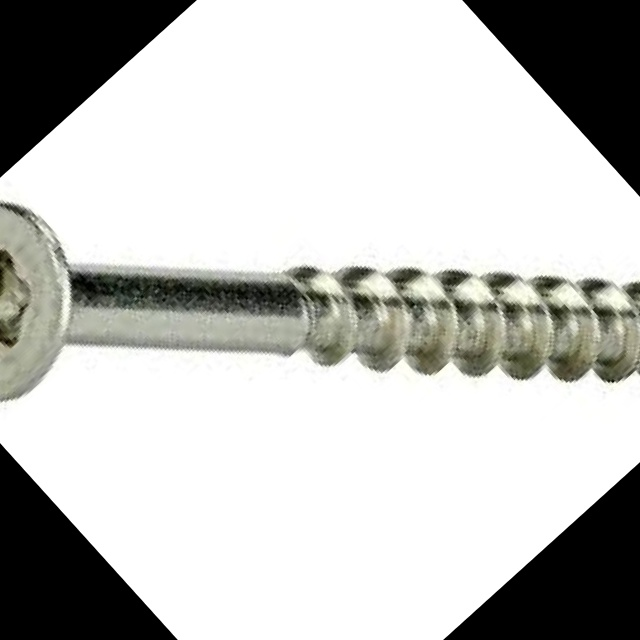torx: (0, 176, 123, 430)
